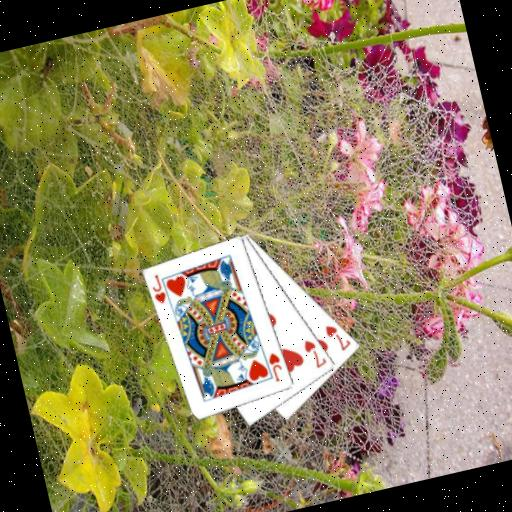7H: (321, 317, 354, 356), (299, 334, 330, 372)
JH: (147, 271, 170, 307), (265, 349, 287, 385)
